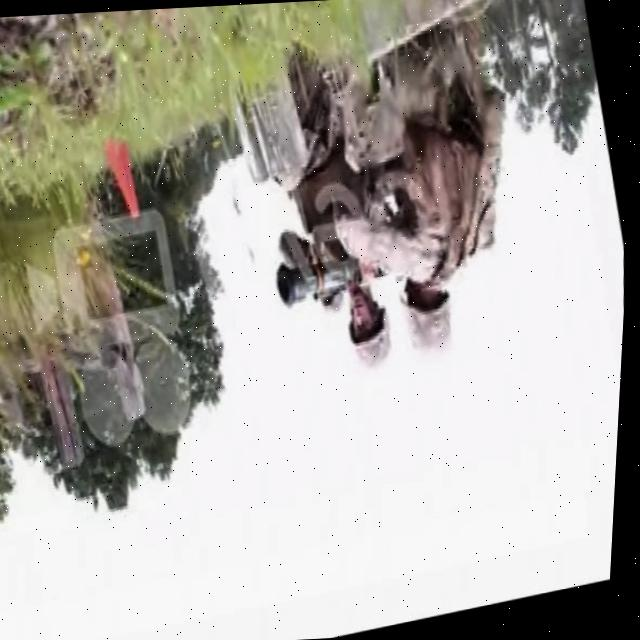rocket: (277, 245, 372, 308)
